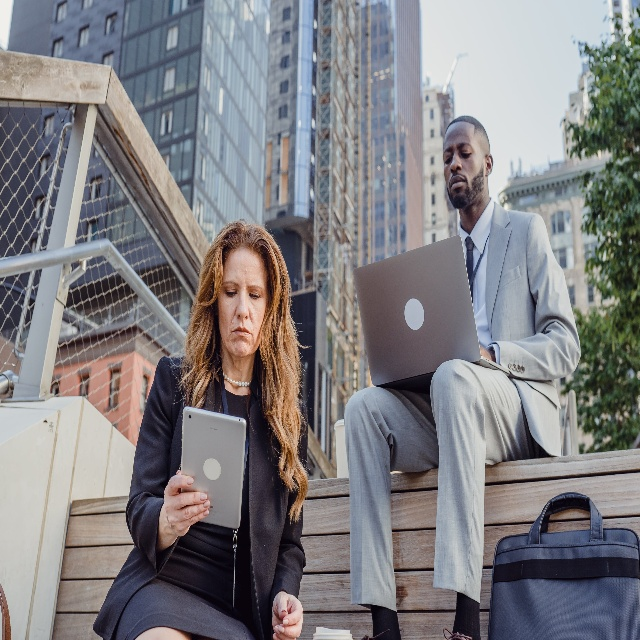Sin_guantes: (162, 465, 211, 541), (271, 592, 304, 640)
